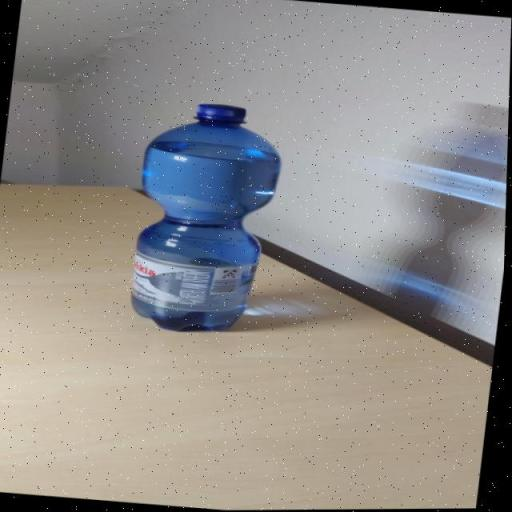plastic: (125, 97, 289, 338)
